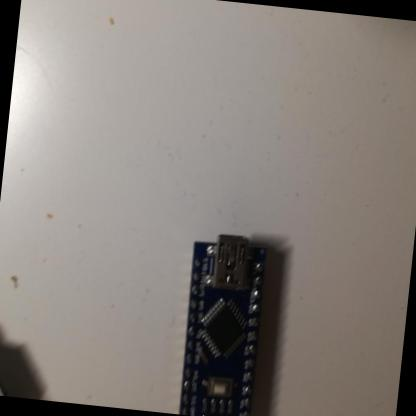Arduino_Nano: (173, 233, 273, 416)
